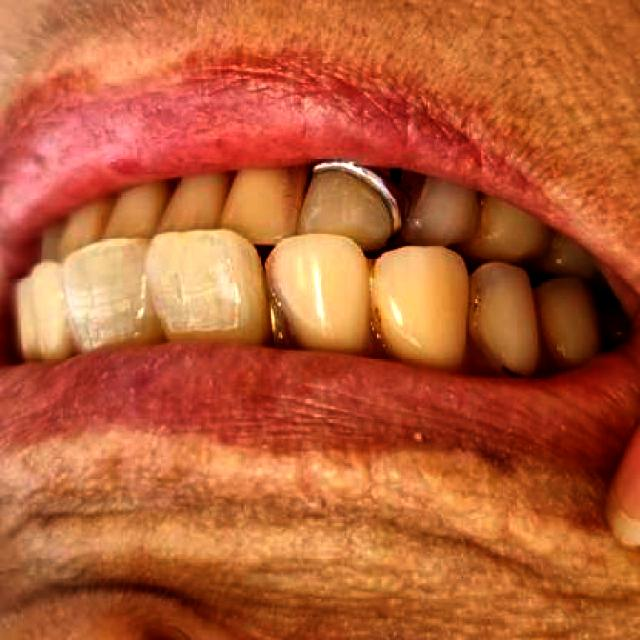Plaque: (494, 360, 538, 393)
